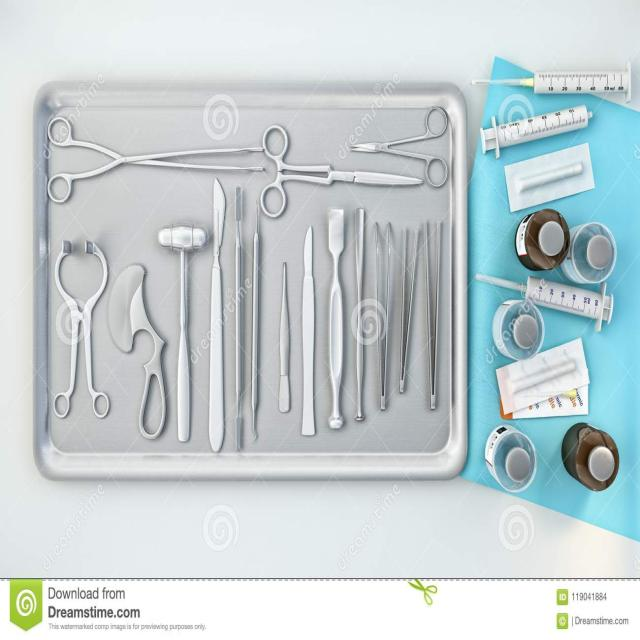B3: (45, 111, 269, 216), (248, 113, 424, 224), (468, 265, 632, 334), (342, 105, 463, 195), (458, 49, 640, 106), (474, 100, 607, 162)
